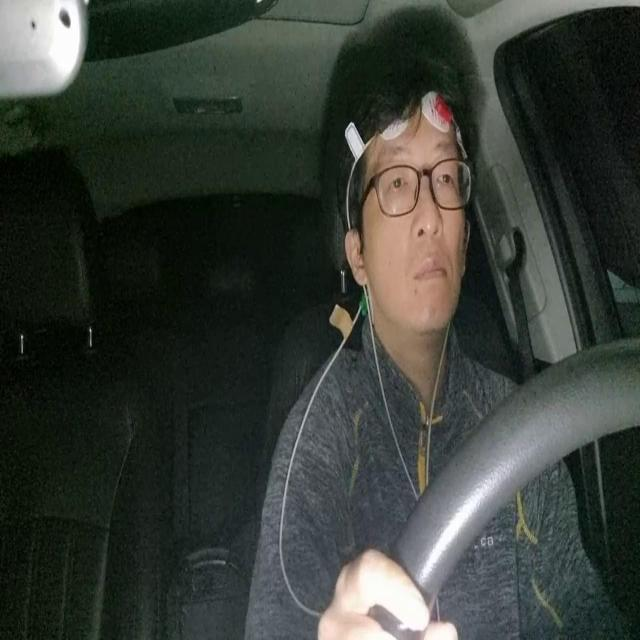Attentive: (332, 52, 473, 328)
